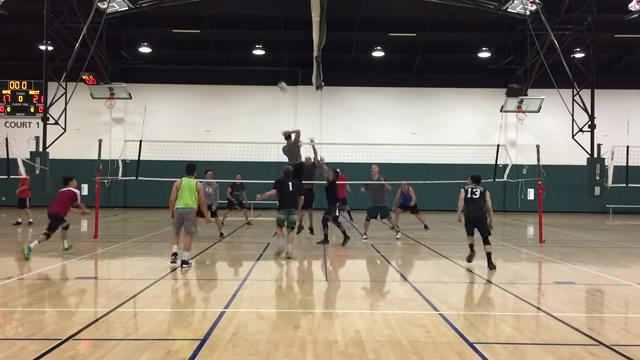Player: (24, 177, 87, 260), (256, 167, 303, 258), (169, 163, 210, 267), (457, 175, 495, 269), (361, 165, 399, 238), (317, 162, 349, 245), (297, 144, 319, 234), (392, 180, 428, 229), (222, 174, 251, 225), (202, 170, 223, 237), (282, 130, 303, 181), (337, 169, 353, 221), (628, 0, 640, 12)
ball: (278, 79, 288, 94)
